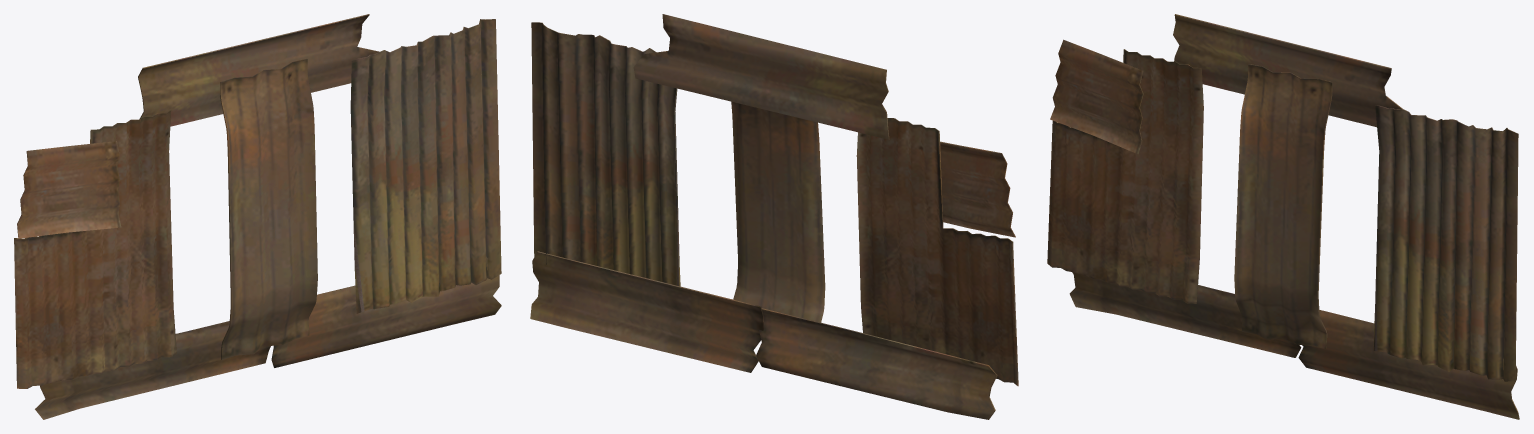
Rendered from vertical_embrasure.gltf.
3 renders of one model, left to right at view 1: azimuth 30°, elevation 25°; view 2: azimuth 150°, elevation 25°; view 3: azimuth 330°, elevation 25°, orthographic. The views are drawn at different scales.
Parts seen in each view (by area): view 1: Collection.smd; view 2: Collection.smd; view 3: Collection.smd.
Boxes of the visible parts, <box> form: Collection.smd: <box>14,14,501,419</box>; Collection.smd: <box>530,14,1018,419</box>; Collection.smd: <box>1047,14,1519,419</box>.
Bounding box in the file's own units: 2.4 × 1.58 × 0.1471.
1 material, 1 textured.
